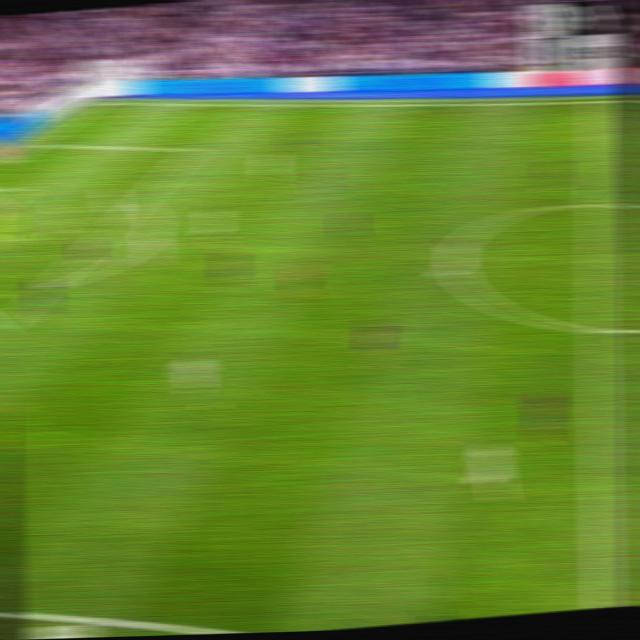bigarea_top_inner: (184, 142, 205, 158)
bigarea_top_outter: (25, 135, 46, 150)
bottom_arc_area_intersection: (41, 274, 63, 294)
corner: (90, 96, 111, 107)
halfcircle_bottom: (584, 310, 613, 348)
halfcircle_top: (582, 187, 612, 222)
midline_top_intersection: (585, 92, 611, 114)
smallarea_top_inner: (15, 184, 34, 196)
top_arc_area_intersection: (130, 193, 151, 209)
